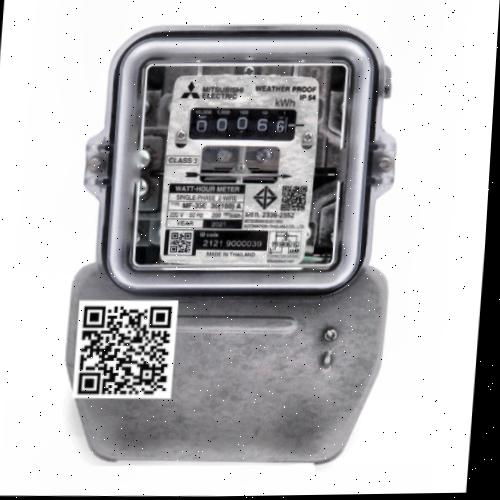qr_code: (72, 298, 178, 399)
